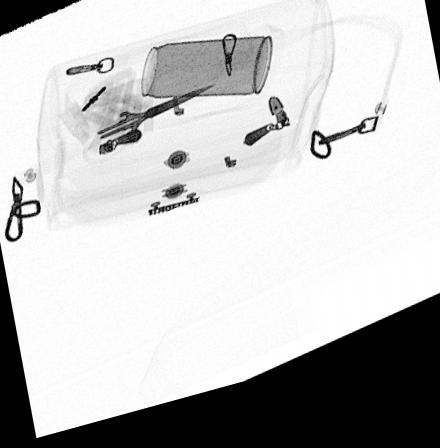Scissors: (81, 92, 218, 166)
